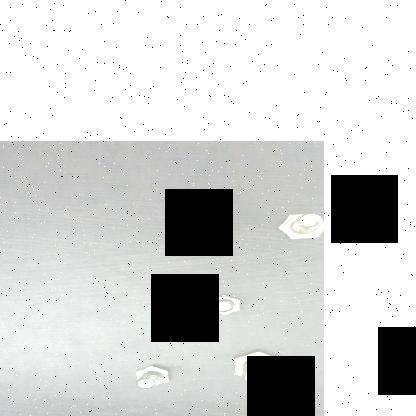Bolts: (159, 202, 240, 246), (224, 346, 288, 390), (268, 210, 324, 240), (198, 290, 250, 318), (126, 361, 174, 389)
